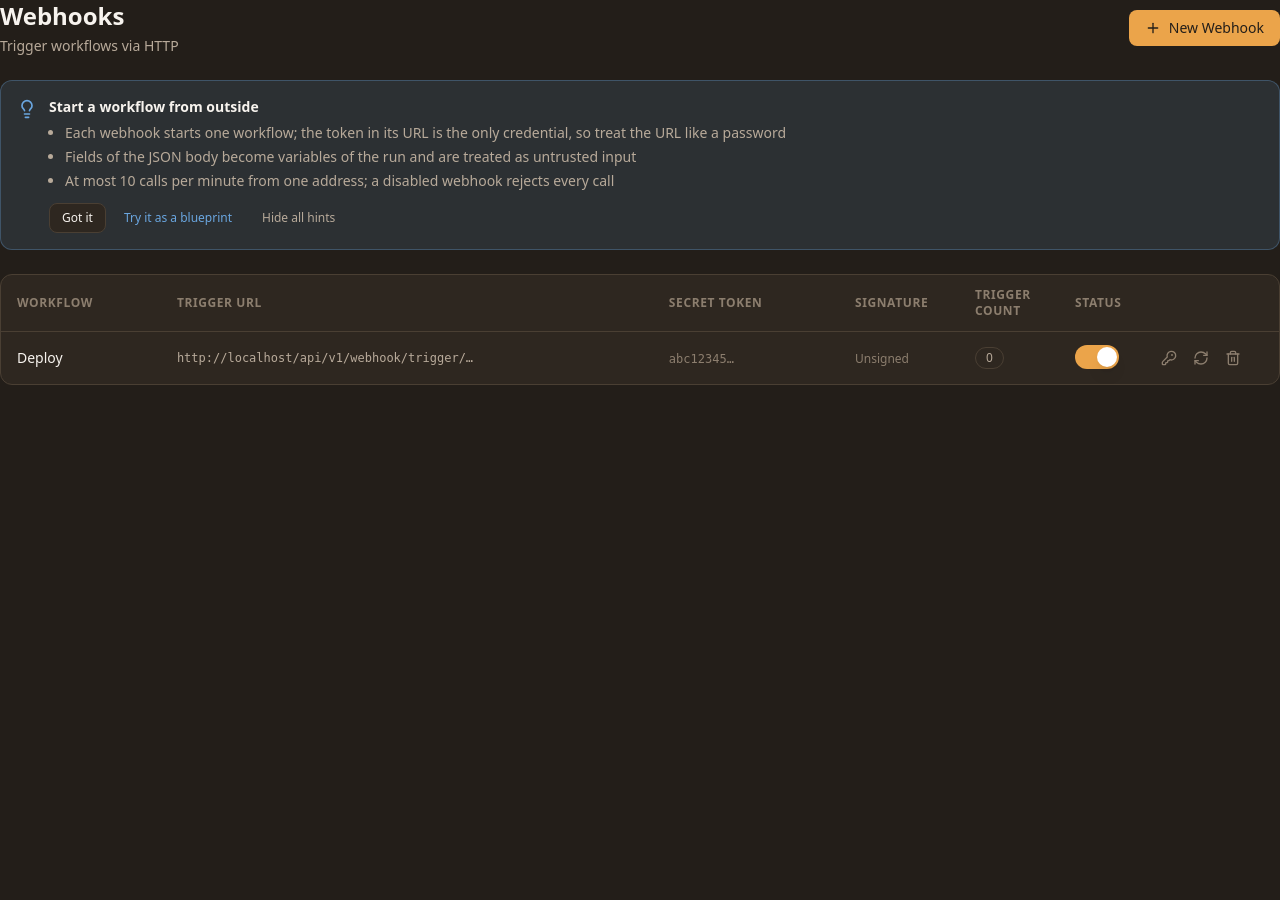
Webhooks signatures › sets a signing secret and reveals it once
Step 1. Click the button named "Set signing secret" → (1169, 358), box [1155,344,1183,372]
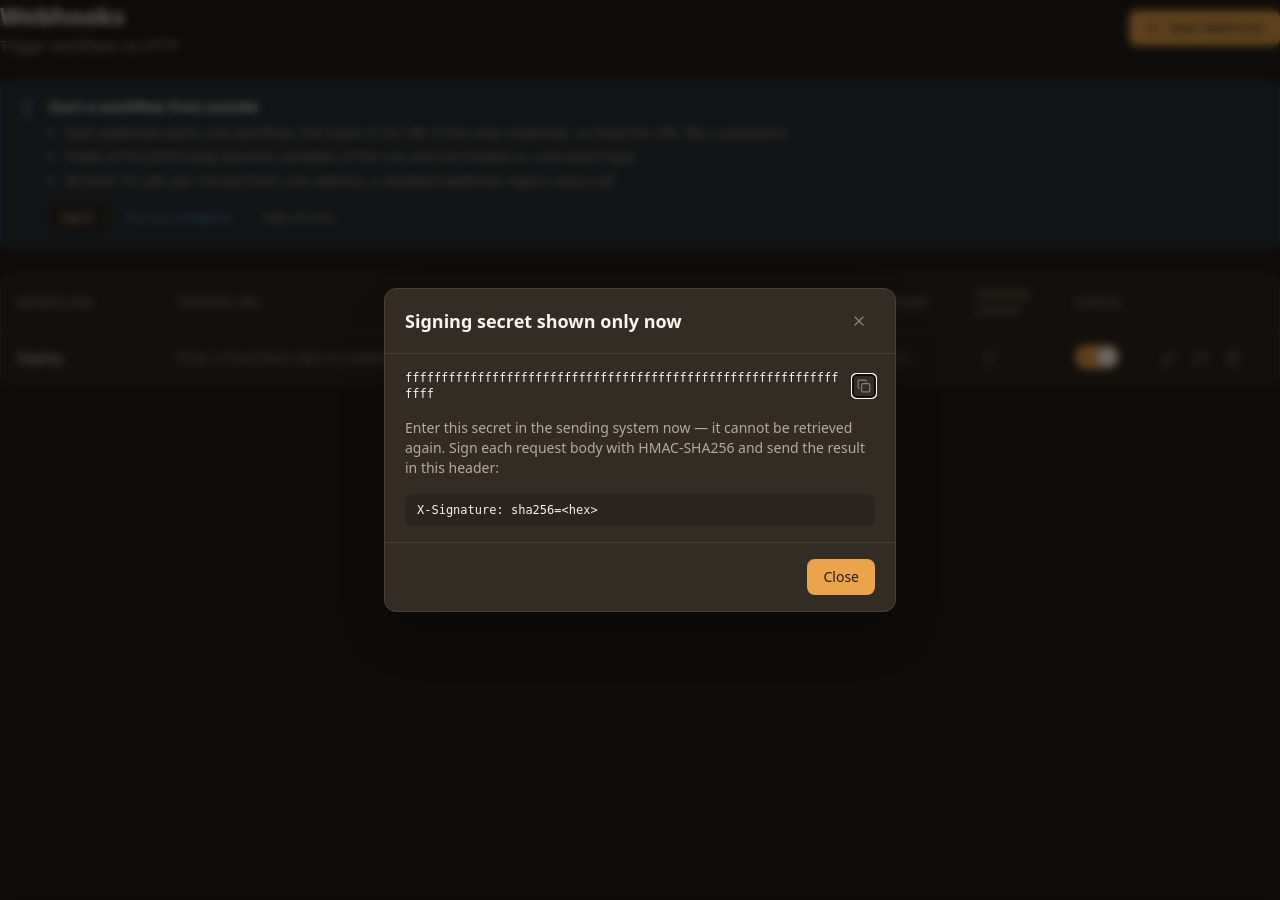
Now the text "X-Signature: sha256=<hex>" is shown, box [405,494,875,526]
